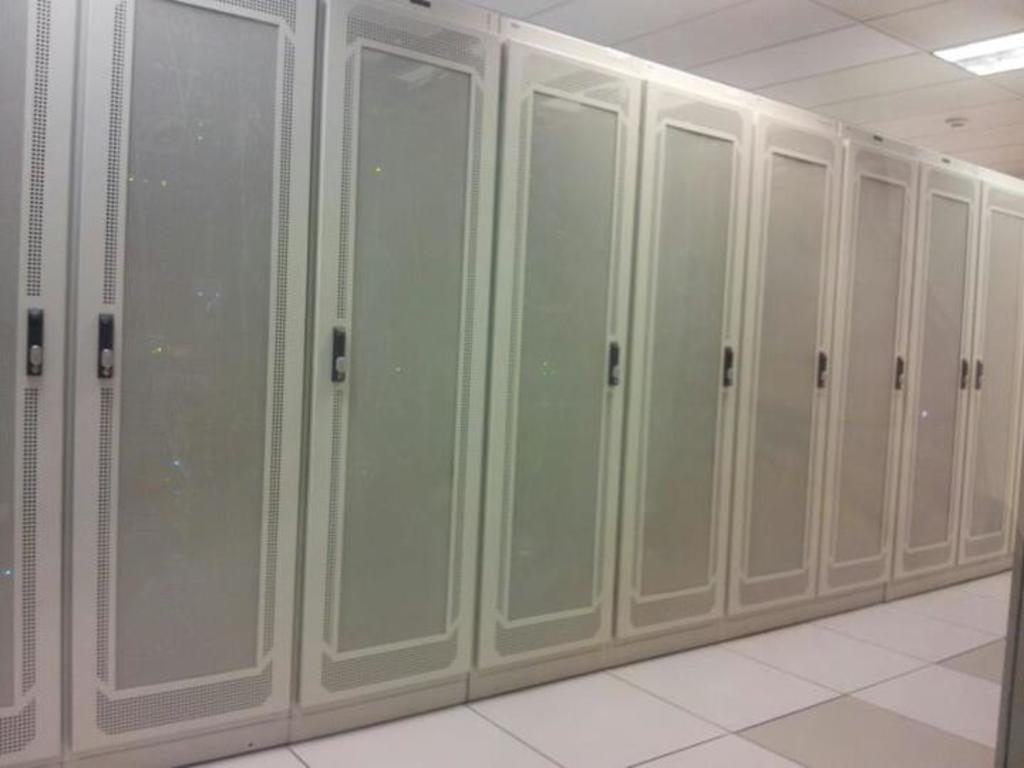cabinet_door: (96, 20, 294, 698), (322, 30, 466, 656), (495, 68, 617, 622), (632, 108, 738, 593), (4, 13, 61, 736), (739, 145, 824, 586), (840, 162, 902, 587), (966, 196, 1024, 545), (918, 182, 968, 564)
handle: (324, 328, 354, 390), (95, 310, 119, 380), (600, 332, 626, 392), (712, 344, 740, 395), (24, 304, 45, 368), (808, 351, 830, 394), (886, 358, 908, 400), (970, 356, 990, 397), (956, 356, 972, 394)
